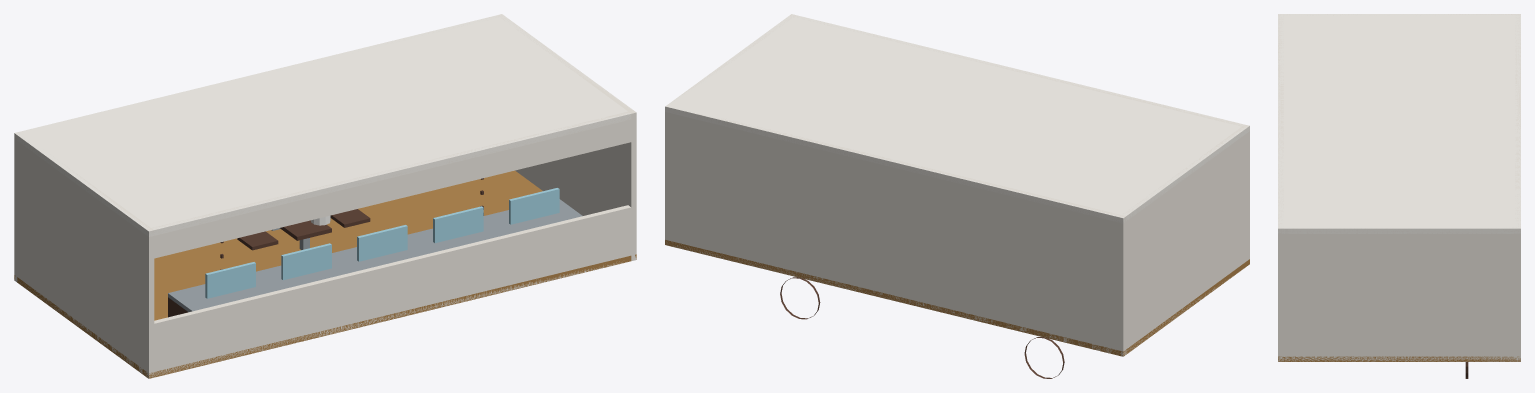
File: 169-Crucero_puente.glb
3 views of the same model, side by side, from view 1: azimuth 30°, elevation 25°; view 2: azimuth 150°, elevation 25°; view 3: azimuth 270°, elevation 25° (orthographic). The views are drawn at different scales.
Visible parts, largest first — view 1: SM_Cri_Puente_Techo, SM_Cri_Puente_Zocalo, SM_Cri_Puente_Pared_B, SM_Cri_Puente_Piso, SM_Cri_Puente_Dintel, SM_Cri_Puente_Pared_E, SM_Cri_Consola_Tapa, SM_Cri_Consola_Pantalla_4, SM_Cri_Consola_Pantalla_2, SM_Cri_Consola_Pantalla_1, SM_Cri_Consola_Pantalla_3, SM_Cri_Consola_Pantalla_5 (+2 smaller); view 2: SM_Cri_Puente_Pared_Popa, SM_Cri_Puente_Techo, SM_Cri_Puente_Pared_B, SM_Cri_Puente_Piso, SM_Cri_Puente_Dintel, SM_Cri_Puente_Pared_E; view 3: SM_Cri_Puente_Techo, SM_Cri_Puente_Pared_E, SM_Cri_Puente_Piso, SM_Cri_Puente_Pared_Popa, SM_Cri_Puente_Dintel.
Boxes of the visible parts, x1,y1,x2,y2 form: SM_Cri_Puente_Techo: [14, 14, 636, 236]; SM_Cri_Puente_Zocalo: [145, 205, 636, 378]; SM_Cri_Puente_Pared_B: [14, 132, 154, 378]; SM_Cri_Puente_Piso: [14, 170, 636, 378]; SM_Cri_Puente_Dintel: [145, 110, 635, 259]; SM_Cri_Puente_Pared_E: [498, 14, 636, 260]; SM_Cri_Consola_Tapa: [168, 199, 582, 312]; SM_Cri_Consola_Pantalla_4: [433, 206, 483, 243]; SM_Cri_Consola_Pantalla_2: [281, 243, 331, 280]; SM_Cri_Consola_Pantalla_1: [205, 262, 255, 298]; SM_Cri_Consola_Pantalla_3: [357, 225, 407, 261]; SM_Cri_Consola_Pantalla_5: [509, 188, 559, 224]; SM_Cri_Puente_Pared_Popa: [665, 106, 1126, 355]; SM_Cri_Puente_Techo: [665, 14, 1249, 223]; SM_Cri_Puente_Pared_B: [1118, 124, 1249, 356]; SM_Cri_Puente_Piso: [665, 240, 1249, 356]; SM_Cri_Puente_Dintel: [790, 14, 1249, 152]; SM_Cri_Puente_Pared_E: [665, 14, 795, 240]; SM_Cri_Puente_Techo: [1278, 14, 1520, 233]; SM_Cri_Puente_Pared_E: [1278, 227, 1520, 361]; SM_Cri_Puente_Piso: [1278, 356, 1520, 361]; SM_Cri_Puente_Pared_Popa: [1515, 14, 1520, 360]; SM_Cri_Puente_Dintel: [1278, 14, 1283, 253].
Bounding box in the file's own units: 9 × 3.88 × 4.3.
